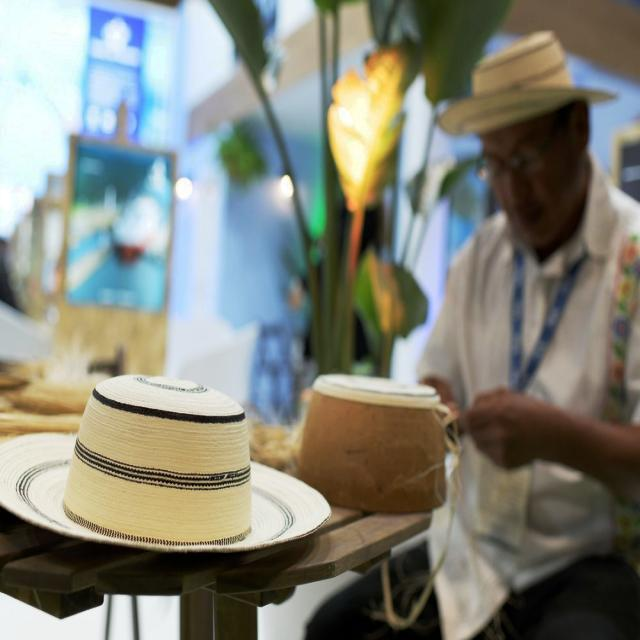TOPI: (5, 369, 341, 570)
